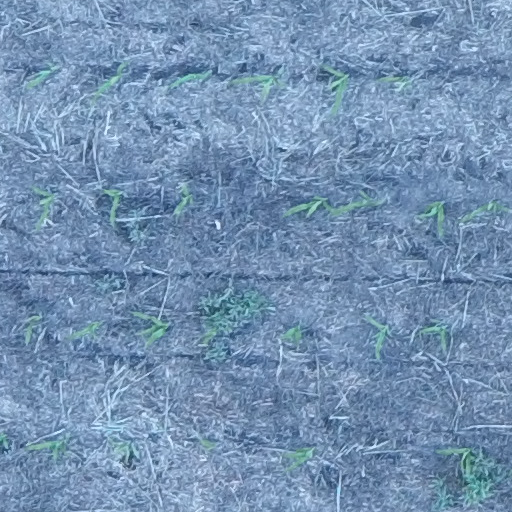planta: (227, 73, 285, 102), (89, 62, 128, 105), (320, 63, 350, 116), (331, 189, 383, 217), (131, 310, 169, 348), (456, 199, 511, 225), (282, 194, 336, 218), (31, 184, 56, 231), (364, 315, 391, 358), (415, 200, 446, 236), (436, 447, 470, 479), (24, 437, 69, 461), (279, 445, 316, 473), (415, 318, 447, 349), (108, 436, 138, 468), (100, 187, 122, 228), (66, 319, 103, 340), (169, 70, 211, 88), (173, 182, 193, 219), (375, 75, 412, 90), (25, 69, 52, 89), (280, 324, 302, 348), (193, 323, 218, 344), (24, 314, 40, 342), (199, 437, 216, 448)
